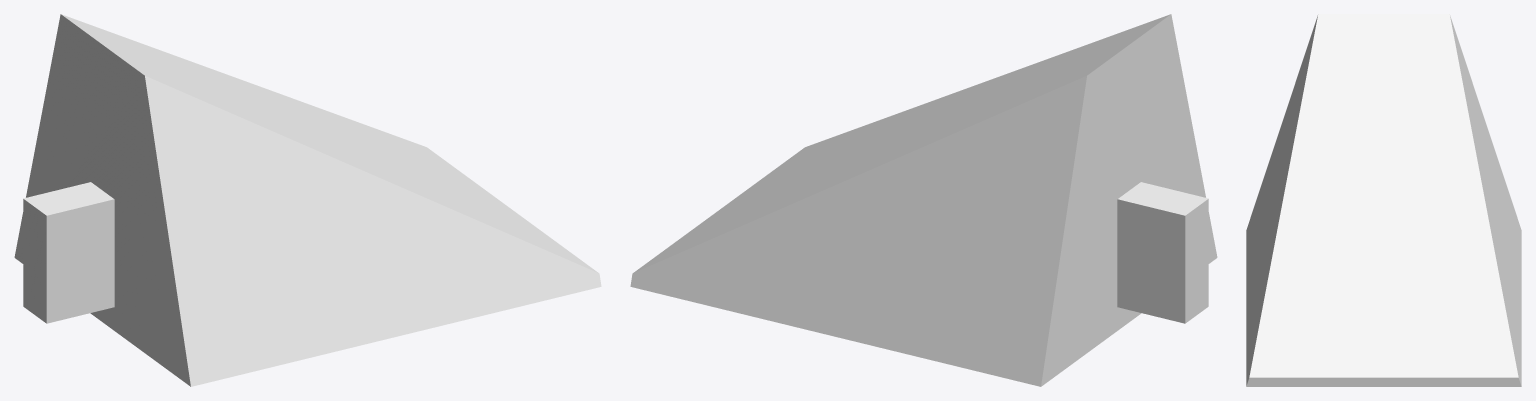
The picture shows the model from 3 angles, left to right: view 1: azimuth 30°, elevation 25°; view 2: azimuth 150°, elevation 25°; view 3: azimuth 270°, elevation 25°; orthographic projection. The views are drawn at different scales.
Parts seen in each view (by area): view 1: Cube, Cube.003; view 2: Cube, Cube.003; view 3: Cube.
Part boxes in pixels (left/top/right/bottom): Cube: left=14, top=14, right=601, bottom=386; Cube.003: left=23, top=182, right=114, bottom=323; Cube: left=630, top=14, right=1217, bottom=386; Cube.003: left=1117, top=182, right=1208, bottom=323; Cube: left=1246, top=14, right=1521, bottom=386.
Size of the model in its own units: 0.5476 by 0.3037 by 0.35.
Materials: 4 (3 with a texture image).
